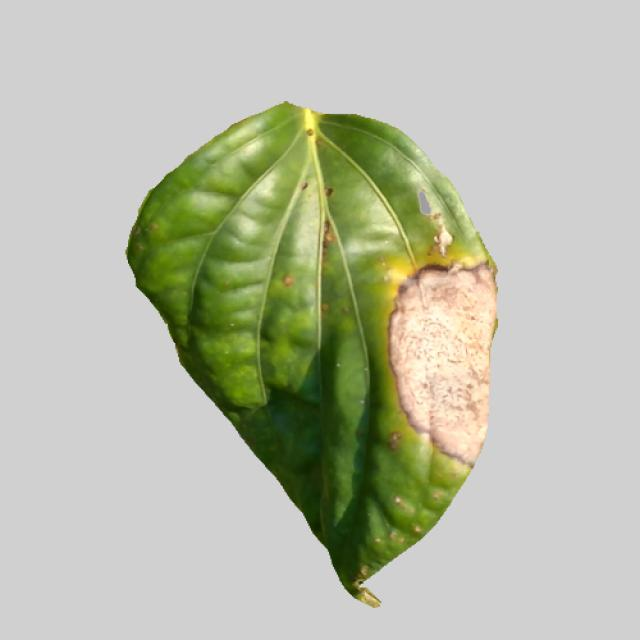leaf-blight: (123, 97, 511, 613)
